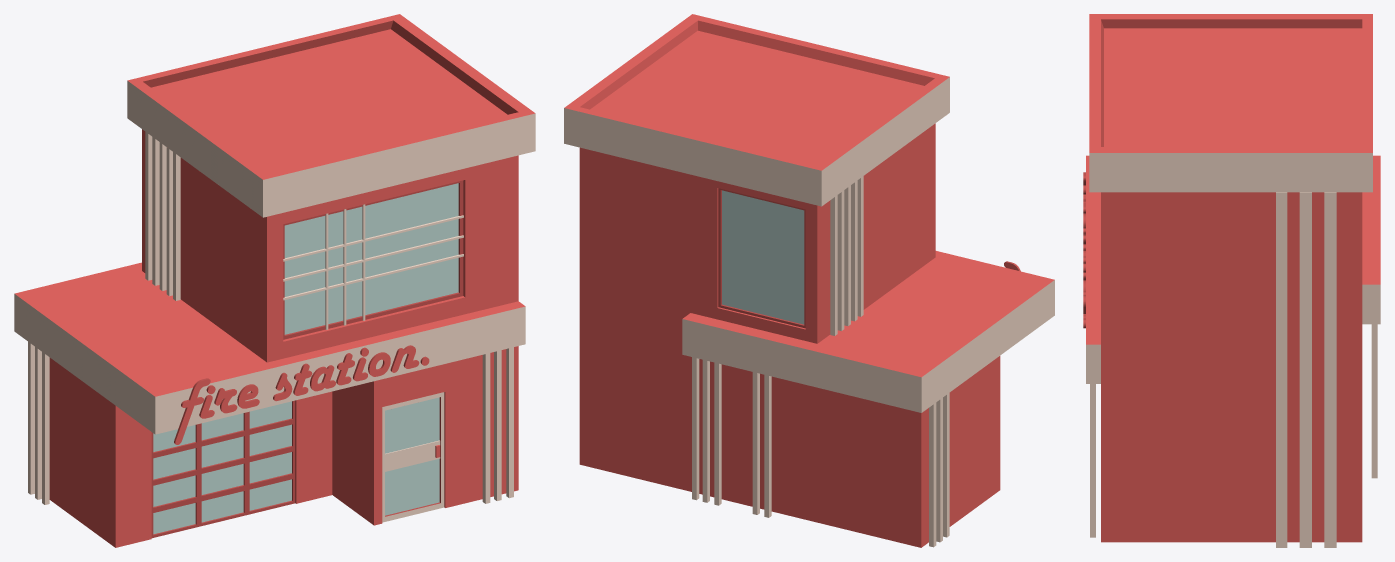
File: fire_station.glb
The picture shows the model from 3 angles, left to right: view 1: azimuth 30°, elevation 25°; view 2: azimuth 150°, elevation 25°; view 3: azimuth 270°, elevation 25°; orthographic projection. The views are drawn at different scales.
Parts seen in each view (by area): view 1: body; view 2: body; view 3: body.
Part boxes in pixels (box(x1,y1,x2,y2)): body: box(14, 14, 535, 547); body: box(564, 14, 1054, 547); body: box(1083, 14, 1380, 547).
Size of the model in its own units: 8.15 by 7.71 by 5.26.
